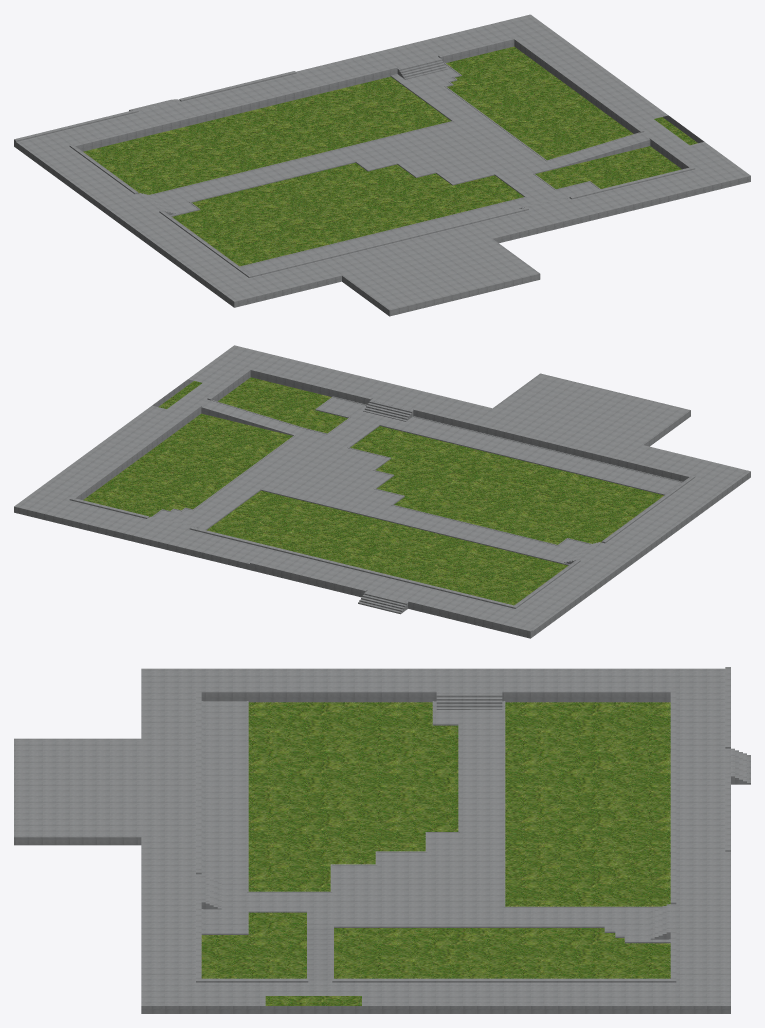
Rendered from Quad.glb.
3 renders of one model, top to bottom at view 1: azimuth 30°, elevation 25°; view 2: azimuth 150°, elevation 25°; view 3: azimuth 270°, elevation 25°, orthographic. The views are drawn at different scales.
Visible parts, largest first — view 1: Quad; view 2: Quad; view 3: Quad.
Boxes of the visible parts, bbox=[...] form: Quad: bbox=[14, 14, 750, 316]; Quad: bbox=[14, 345, 750, 638]; Quad: bbox=[14, 667, 750, 1013].
Bounding box in the file's own units: 59.83 × 0.8075 × 55.26.
Materials: 2 (2 with a texture image).
